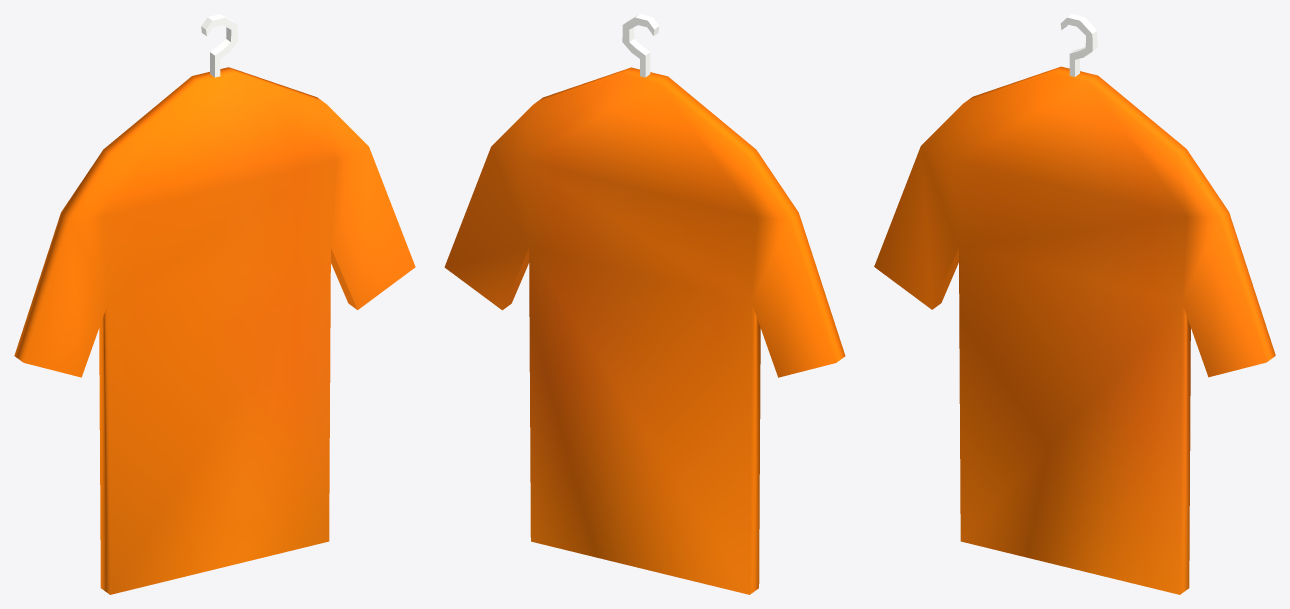
File: ClothingHangerWhiteShirtOrange.glb
The picture shows the model from 3 angles, left to right: view 1: azimuth 30°, elevation 25°; view 2: azimuth 150°, elevation 25°; view 3: azimuth 330°, elevation 25°; orthographic projection.
Visible parts, largest first — view 1: ClothingHangerWhiteShirtOrange; view 2: ClothingHangerWhiteShirtOrange; view 3: ClothingHangerWhiteShirtOrange.
Boxes of the visible parts, bbox=[...] form: ClothingHangerWhiteShirtOrange: bbox=[14, 14, 415, 594]; ClothingHangerWhiteShirtOrange: bbox=[444, 14, 845, 594]; ClothingHangerWhiteShirtOrange: bbox=[874, 14, 1275, 594].
Size of the model in its own units: 0.76 by 1.01 by 0.0315.
Materials: 1 (1 with a texture image).
